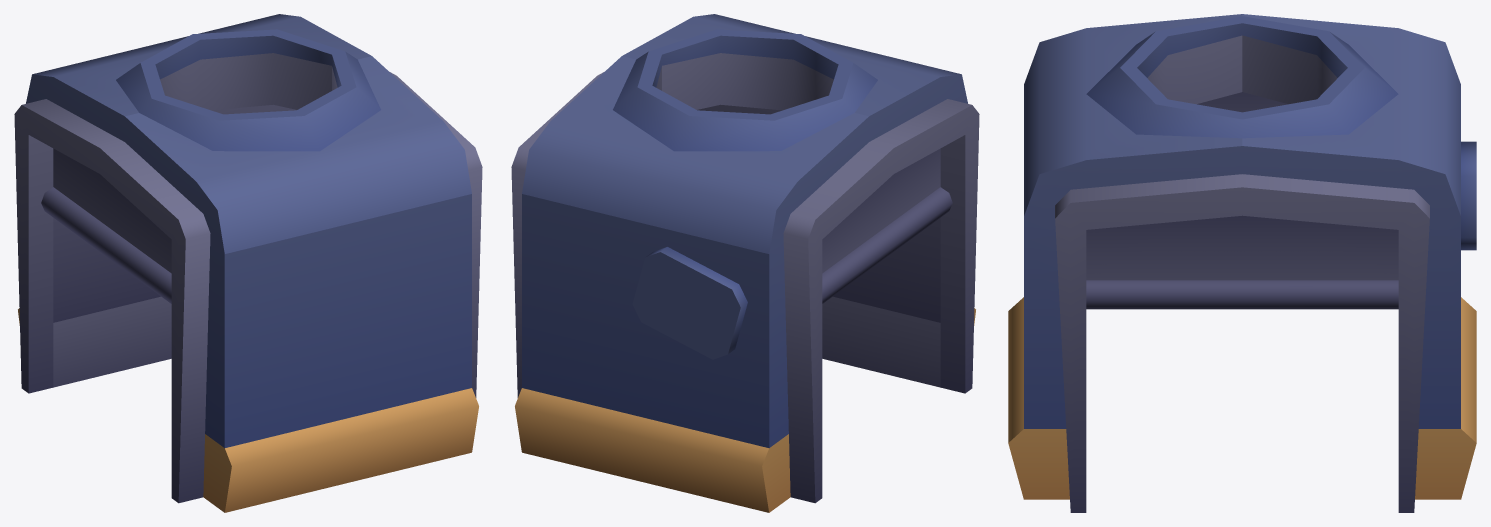
File: machine-connection-hole.glb
3 renders of one model, left to right at view 1: azimuth 30°, elevation 25°; view 2: azimuth 150°, elevation 25°; view 3: azimuth 270°, elevation 25°, orthographic. The views are drawn at different scales.
Parts seen in each view (by area): view 1: machine-connection-hole; view 2: machine-connection-hole; view 3: machine-connection-hole.
Boxes of the visible parts, left/top/right/bottom form: machine-connection-hole: left=14, top=14, right=482, bottom=512; machine-connection-hole: left=511, top=14, right=979, bottom=512; machine-connection-hole: left=1008, top=14, right=1476, bottom=512.
Bounding box in the file's own units: 1.2 × 1.29 × 1.5.
